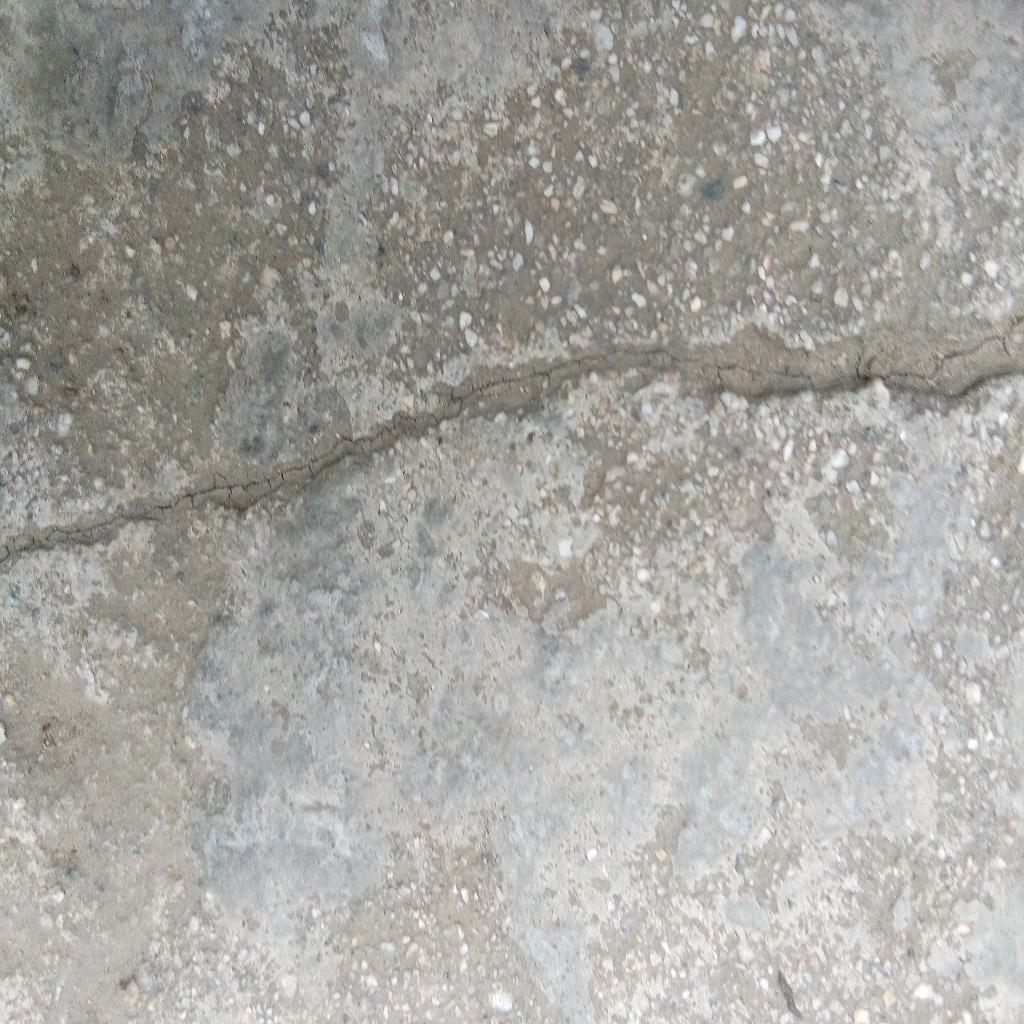Crack: (1, 309, 1024, 576)
